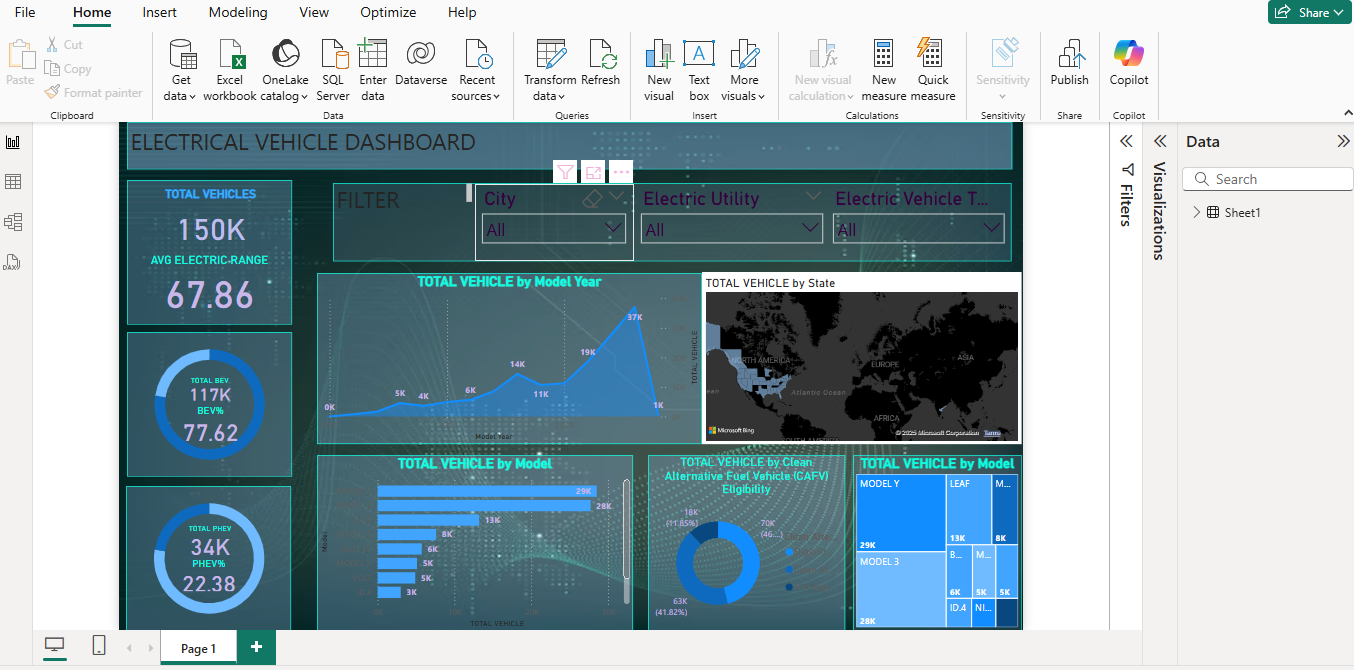

The dashboard page shown, as its layout file describes it:
{"tool":"powerbi","page":{"name":"Page 1","canvas":[1280,720],"ordinal":0},"visuals":[{"type":"shape","box":[11.8,0,1254.7,67.4],"z":0},{"type":"card","title":"TOTAL VEHICLES","fields":{"Values":["Sheet1.TOTAL VEHICLE"]},"box":[33.7,92.6,192,92.6],"z":1000},{"type":"shape","box":[11.8,82.5,234.1,205.5],"z":2000},{"type":"card","title":"AVG ELECTRIC RANGE","fields":{"Values":["Avg(Sheet1.Electric Range)"]},"box":[11.8,185.3,234.1,84.2],"z":3000},{"type":"shape","box":[11.8,298.1,234.1,205.5],"z":4000},{"type":"shape","box":[10.1,515.4,234.1,205.5],"z":5000},{"type":"donutChart","fields":{"Y":["Sheet1.TOTAL VEHICLE"],"Category":["Sheet1.Electric Vehicle Type"]},"box":[10.1,515.4,235.8,205.5],"z":6000},{"type":"donutChart","fields":{"Y":["Sheet1.TOTAL VEHICLE"],"Category":["Sheet1.Electric Vehicle Type"]},"box":[11.8,298.1,234.1,205.5],"z":7000},{"type":"card","title":"TOTAL BEV","fields":{"Values":["Sheet1.TOTAL BEV"]},"box":[89.3,360.4,79.2,40.4],"z":8000},{"type":"card","title":"TOTAL PHEV","fields":{"Values":["Sheet1.TOTAL PHEV"]},"box":[77.5,569.3,102.7,48.8],"z":9000},{"type":"card","title":"PHEV%","fields":{"Values":["Sheet1.PHEV%"]},"box":[52.2,618.1,149.9,52.2],"z":10000},{"type":"card","title":"BEV%","fields":{"Values":["Sheet1.BEV%"]},"box":[62.3,400.8,134.7,55.6],"z":11000},{"type":"shape","box":[281.3,213.9,545.7,242.5],"z":12000},{"type":"shape","box":[281.3,471.6,448,249.3],"z":13000},{"type":"shape","box":[749.5,471.6,279.6,249.3],"z":14000},{"type":"shape","box":[303.2,85.9,961.7,111.2],"z":15000},{"type":"areaChart","fields":{"Category":["Sheet1.Model Year"],"Y2":["Sheet1.TOTAL VEHICLE"]},"box":[281.3,213.9,545.7,242.5],"z":16000},{"type":"filledMap","fields":{"Category":["Sheet1.State"]},"box":[826.9,212.2,453.1,244.2],"z":17000},{"type":"barChart","fields":{"Category":["Sheet1.Model"],"Y":["Sheet1.TOTAL VEHICLE"]},"box":[281.3,471.6,448,249.3],"z":18000},{"type":"donutChart","fields":{"Category":["Sheet1.Clean Alternative Fuel Vehicle (CAFV) Eligibility"],"Y":["Sheet1.TOTAL VEHICLE"]},"box":[749.5,471.6,279.6,249.3],"z":19000},{"type":"shape","box":[1040.8,471.6,239.2,249.3],"z":20000},{"type":"treemap","fields":{"Values":["Sheet1.TOTAL VEHICLE"],"Group":["Sheet1.Model"]},"box":[1040.8,471.6,239.2,249.3],"z":21000},{"type":"textbox","box":[303.2,82.5,202.1,57.3],"z":22000},{"type":"slicer","fields":{"Values":["Sheet1.City"]},"box":[505.3,87.6,224,109.5],"z":23000},{"type":"slicer","fields":{"Values":["Sheet1.Electric Utility"]},"box":[729.3,87.6,277.9,109.5],"z":24000},{"type":"slicer","fields":{"Values":["Sheet1.Electric Vehicle Type"]},"box":[1002.1,87.6,262.7,109.5],"z":25000},{"type":"textbox","box":[11.8,0,628.2,67.4],"z":26000}]}

Visuals, with their boxes on the page's 1280x720 design canvas (x1, y1, x2, y2). These are canvas units, not pixel positions in the 1354x670 screenshot, which may show the page scaled, cropped or inside an application window:
shape: crop(12, 0, 1266, 67)
"TOTAL VEHICLES" card: crop(34, 93, 226, 185)
shape: crop(12, 82, 246, 288)
"AVG ELECTRIC RANGE" card: crop(12, 185, 246, 270)
shape: crop(12, 298, 246, 504)
shape: crop(10, 515, 244, 721)
donutChart - Sheet1.TOTAL VEHICLE x Sheet1.Electric Vehicle Type: crop(10, 515, 246, 721)
donutChart - Sheet1.TOTAL VEHICLE x Sheet1.Electric Vehicle Type: crop(12, 298, 246, 504)
"TOTAL BEV" card: crop(89, 360, 168, 401)
"TOTAL PHEV" card: crop(78, 569, 180, 618)
"PHEV%" card: crop(52, 618, 202, 670)
"BEV%" card: crop(62, 401, 197, 456)
shape: crop(281, 214, 827, 456)
shape: crop(281, 472, 729, 721)
shape: crop(750, 472, 1029, 721)
shape: crop(303, 86, 1265, 197)
areaChart - Sheet1.Model Year x Sheet1.TOTAL VEHICLE: crop(281, 214, 827, 456)
filledMap - Sheet1.State: crop(827, 212, 1280, 456)
barChart - Sheet1.Model x Sheet1.TOTAL VEHICLE: crop(281, 472, 729, 721)
donutChart - Sheet1.Clean Alternative Fuel Vehicle (CAFV) Eligibility x Sheet1.TOTAL VEHICLE: crop(750, 472, 1029, 721)
shape: crop(1041, 472, 1280, 721)
treemap - Sheet1.TOTAL VEHICLE x Sheet1.Model: crop(1041, 472, 1280, 721)
textbox: crop(303, 82, 505, 140)
slicer - Sheet1.City: crop(505, 88, 729, 197)
slicer - Sheet1.Electric Utility: crop(729, 88, 1007, 197)
slicer - Sheet1.Electric Vehicle Type: crop(1002, 88, 1265, 197)
textbox: crop(12, 0, 640, 67)
